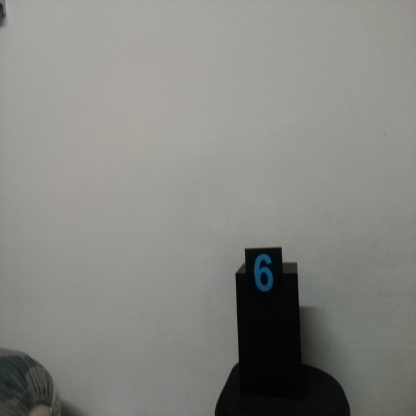id_6: (245, 250, 284, 307)
